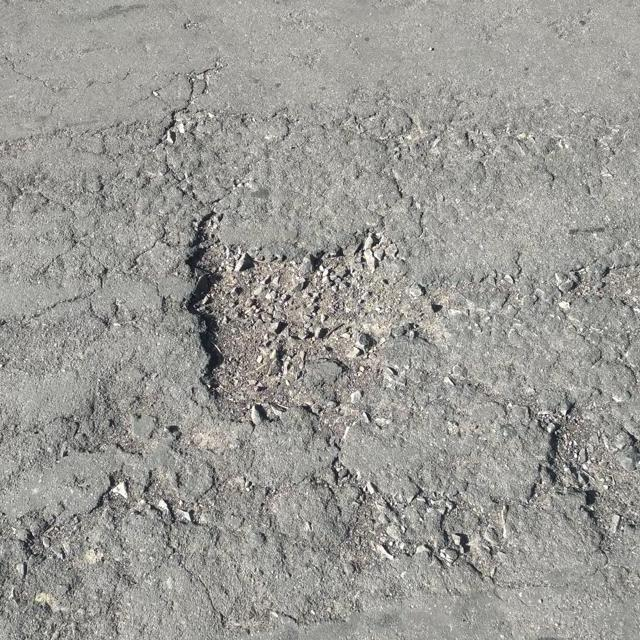lubang_kecil: (148, 188, 412, 425)
